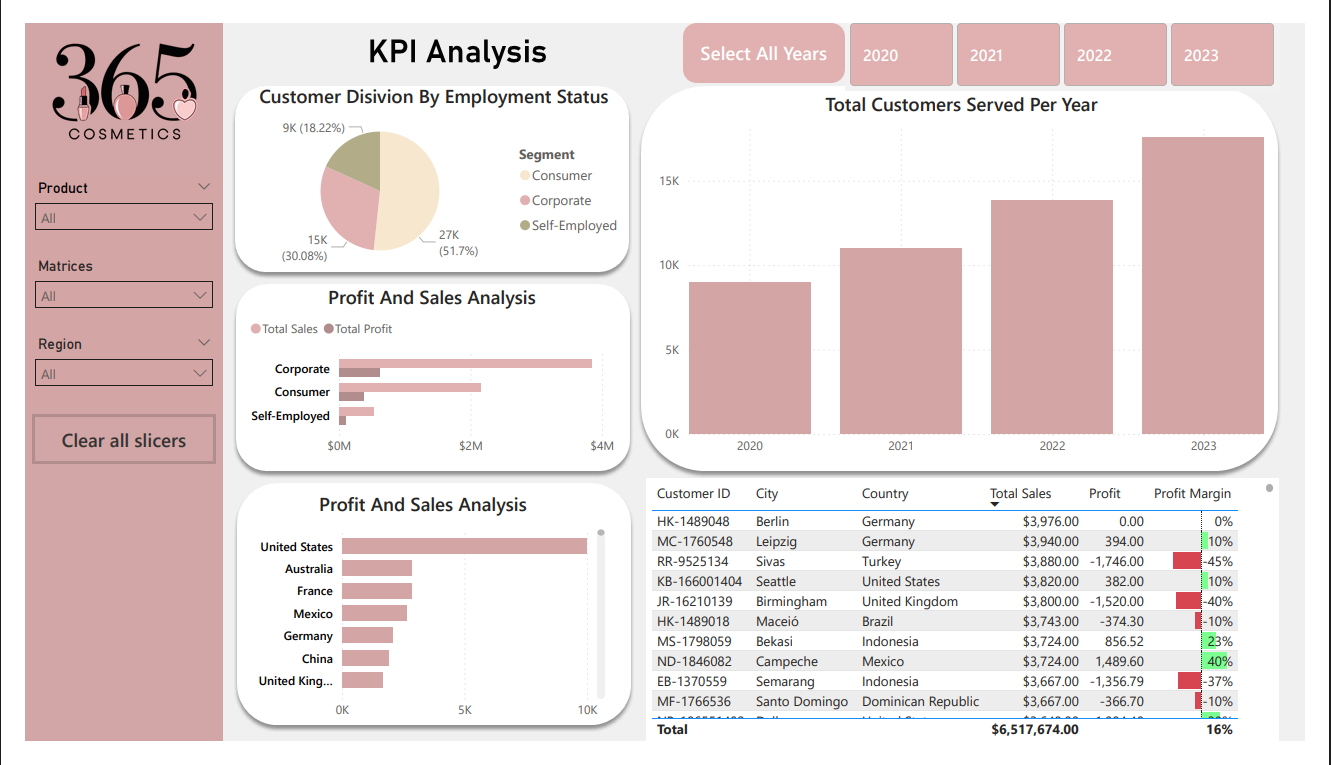

This screenshot's page, from the dashboard's own definition file:
{"tool":"powerbi","page":{"name":"KPI Analysis","canvas":[1280,720],"ordinal":2},"visuals":[{"type":"clusteredBarChart","title":"Profit  And Sales Analysis","fields":{"Y":["KPI_Measures.Total Sales","KPI_Measures.Total Profit"],"Category":["data.Segment"]},"box":[219.5,261.2,374.9,180.1],"z":0},{"type":"slicer","fields":{"Values":["data.Product"]},"box":[0,152.5,198.1,77.7],"z":1000},{"type":"slicer","fields":{"Values":["Parameter.Parameter"]},"box":[0,230.2,198.1,77.7],"z":2000},{"type":"slicer","fields":{"Values":["data.Region"]},"box":[0,307.9,198.1,77.7],"z":3000},{"type":"actionButton","box":[6.8,391.4,184.5,49.5],"z":4000},{"type":"advancedSlicerVisual","fields":{"Values":["Dim_Date.Order Date.Variation.Date Hierarchy.Year"]},"box":[819.7,0,435.1,68],"z":5000},{"type":"actionButton","box":[658.5,0,161.2,60.2],"z":6000},{"type":"pieChart","title":"Customer Disivion By Employment Status","fields":{"Category":["data.Segment"],"Y":["KPI_Measures.Total_Customer"]},"box":[210.5,59.7,396.3,191.4],"z":7000},{"type":"clusteredBarChart","title":"Profit  And Sales Analysis","fields":{"Y":["KPI_Measures.Total_Customer"],"Category":["data.Country"]},"box":[210.5,468.3,374.9,236.4],"z":8000},{"type":"tableEx","fields":{"Values":["data.Customer ID","data.City","data.Country","KPI_Measures.Total Sales","data.Profit","KPI_Measures.Profit Margin"]},"box":[621.4,454.8,632.7,265.7],"z":9000},{"type":"clusteredColumnChart","title":"Total Customers Served Per Year","fields":{"Category":["Dim_Date.Order Date.Variation.Date Hierarchy.Year"],"Y":["KPI_Measures.Total_Customer"]},"box":[629.3,68,614.7,372.9],"z":10000}]}

Visuals, with their boxes in screenshot pixels (x1, y1, x2, y2), scaled from the page's 1280x720 canvas onto the 1331x765 screenshot:
"Profit  And Sales Analysis" clusteredBarChart: (228, 278, 618, 469)
slicer - data.Product: (0, 162, 206, 245)
slicer - Parameter.Parameter: (0, 245, 206, 327)
slicer - data.Region: (0, 327, 206, 410)
actionButton: (7, 416, 199, 468)
advancedSlicerVisual - Dim_Date.Order Date.Variation.Date Hierarchy.Year: (852, 0, 1305, 72)
actionButton: (685, 0, 852, 64)
"Customer Disivion By Employment Status" pieChart: (219, 63, 631, 267)
"Profit  And Sales Analysis" clusteredBarChart: (219, 498, 609, 749)
tableEx - data.Customer ID x data.City: (646, 483, 1304, 764)
"Total Customers Served Per Year" clusteredColumnChart: (654, 72, 1294, 468)
